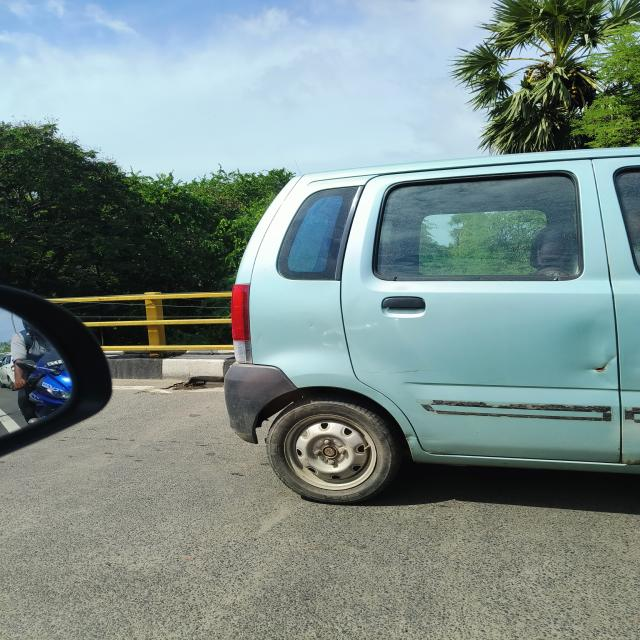dent: (556, 309, 628, 378)
scratch: (578, 352, 617, 374), (357, 368, 461, 375), (622, 459, 640, 466), (404, 433, 417, 442), (320, 370, 344, 374), (426, 450, 446, 454)
